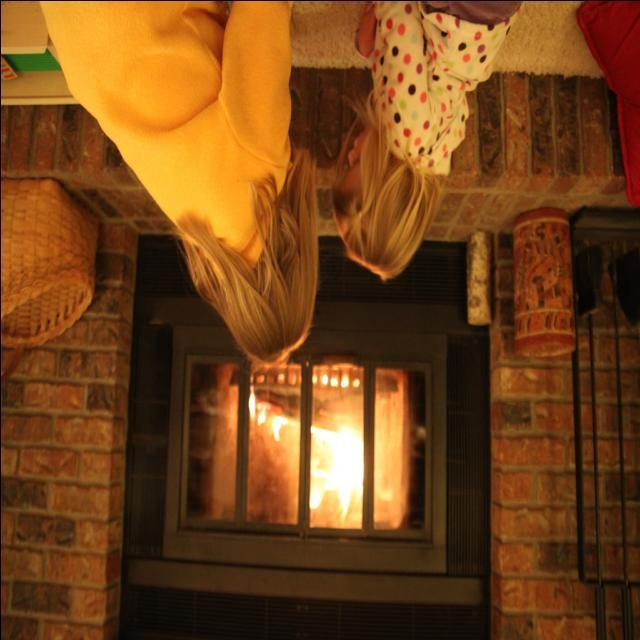Fire: (225, 368, 397, 542)
